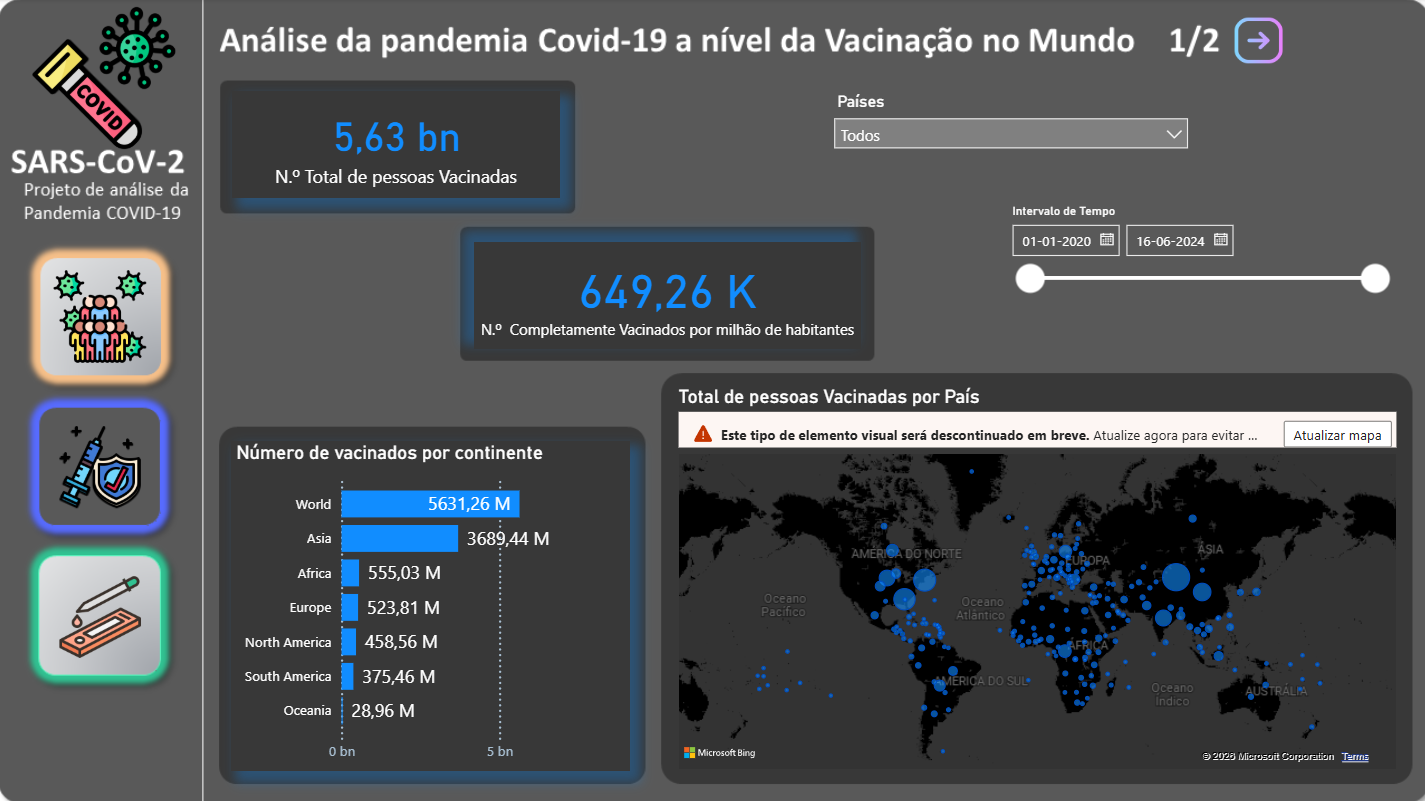

Layout of this report page (visuals, bound fields, positions):
{"tool":"powerbi","page":{"name":"Vacinação contra Covid-19 1/2","canvas":[1280,720],"ordinal":3},"visuals":[{"type":"image","box":[10,1.7,170,138.3],"z":0},{"type":"card","fields":{"Values":["Medidas utilizadas nas páginas 'Vacinação contra Covid-19'.N.º Total de pessoas Vacinadas"]},"box":[210,82.5,293.8,96.2],"z":1000},{"type":"slicer","fields":{"Values":["owid-covid-data.All Countries","Locais.location"]},"box":[738.6,78.6,337.1,74.3],"z":2000},{"type":"slicer","fields":{"Values":["Datas.date"]},"box":[895.7,178.6,358.6,91.4],"z":3000},{"type":"card","fields":{"Values":["Medidas utilizadas nas páginas 'Vacinação contra Covid-19'.N.º Vacinados por milhão de habitantes"]},"box":[426.8,217.3,346.6,95.7],"z":4000},{"type":"image","box":[46.7,510,90,88.3],"z":5000},{"type":"map","title":"Total de pessoas Vacinadas por País","fields":{"Category":["Locais.location"],"Size":["Medidas utilizadas nas páginas 'Vacinação contra Covid-19'.N.º Total de pessoas Vacinadas"]},"box":[604.3,345.7,652.9,348.6],"z":6000},{"type":"barChart","title":"Número de vacinados por continente","fields":{"Y":["Medidas utilizadas nas páginas 'Vacinação contra Covid-19'.N.º Total de pessoas Vacinadas"],"Category":["Locais.location"]},"box":[208.7,395.6,357.2,295.7],"z":7000},{"type":"image","box":[45,233.3,93.3,103.3],"z":8000},{"type":"image","box":[1102.9,11.4,52.9,51.4],"z":9000},{"type":"image","box":[51.2,373.8,81,88.1],"z":10000}]}

Visuals, with their boxes in screenshot pixels (x1, y1, x2, y2), scaled from the page's 1280x720 canvas onto the 1425x801 screenshot:
image: 11:2:200:156
card - Medidas utilizadas nas páginas 'Vacinação contra Covid-19'.N.º Total de pessoas Vacinadas: 234:92:561:199
slicer - owid-covid-data.All Countries x Locais.location: 822:87:1198:170
slicer - Datas.date: 997:199:1396:300
card - Medidas utilizadas nas páginas 'Vacinação contra Covid-19'.N.º Vacinados por milhão de habitantes: 475:242:861:348
image: 52:567:152:666
"Total de pessoas Vacinadas por País" map: 673:385:1400:772
"Número de vacinados por continente" barChart: 232:440:630:769
image: 50:260:154:374
image: 1228:13:1287:70
image: 57:416:147:514
